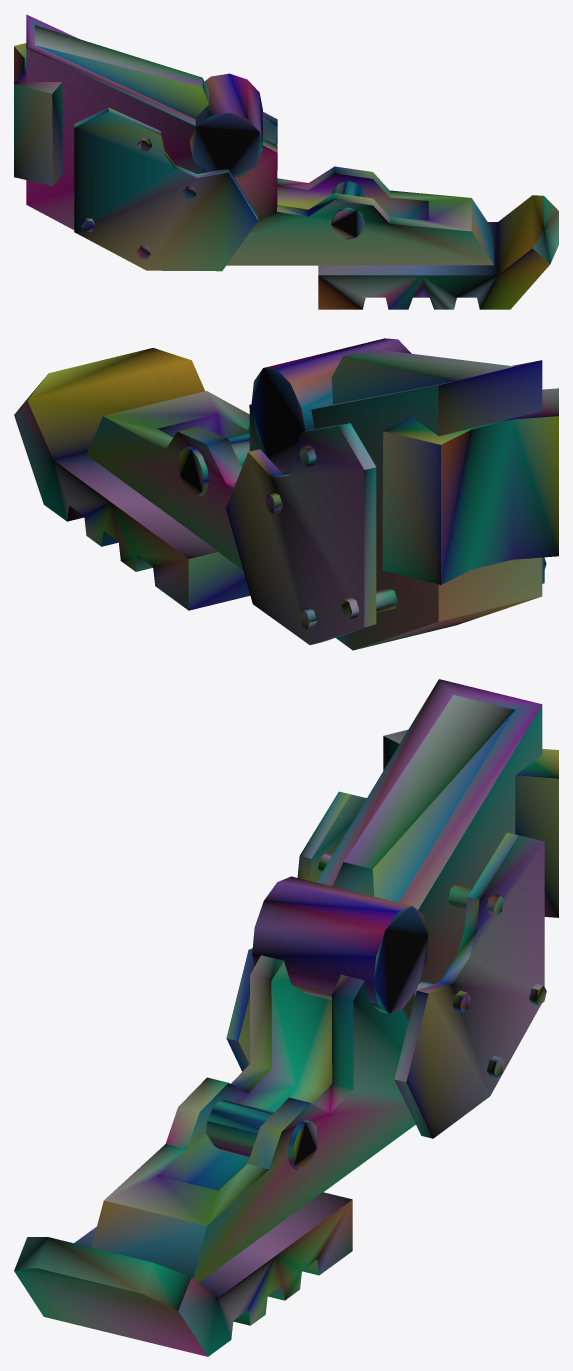
The model's file is ASE_RocketTurret_3Legs.gltf.
3 views of the same model, one above another, from view 1: azimuth 30°, elevation 25°; view 2: azimuth 150°, elevation 25°; view 3: azimuth 270°, elevation 25° (orthographic). The views are drawn at different scales.
Visible parts, largest first — view 1: ASE_RocketTurret_3Legs; view 2: ASE_RocketTurret_3Legs; view 3: ASE_RocketTurret_3Legs.
Part boxes in pixels (box(x1,y1,x2,y2)): ASE_RocketTurret_3Legs: box(14, 14, 558, 309); ASE_RocketTurret_3Legs: box(14, 338, 558, 650); ASE_RocketTurret_3Legs: box(14, 679, 558, 1356).
Size of the model in its own units: 0.5597 by 0.2996 by 0.3909.
